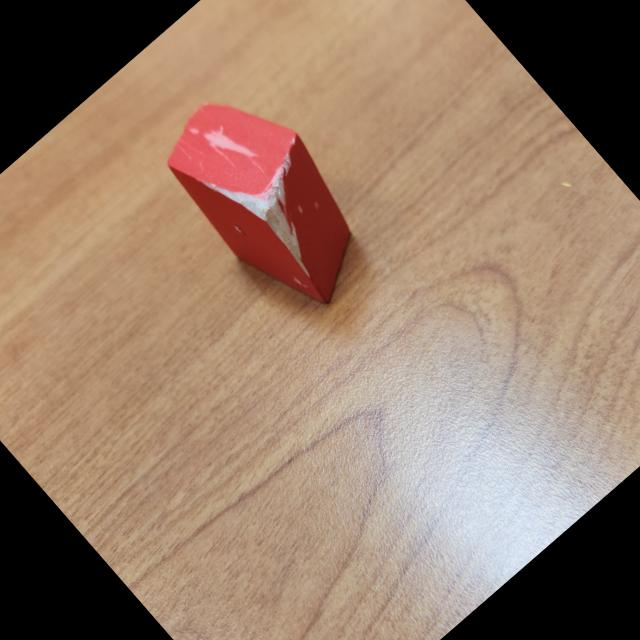broken: (147, 68, 393, 324)
